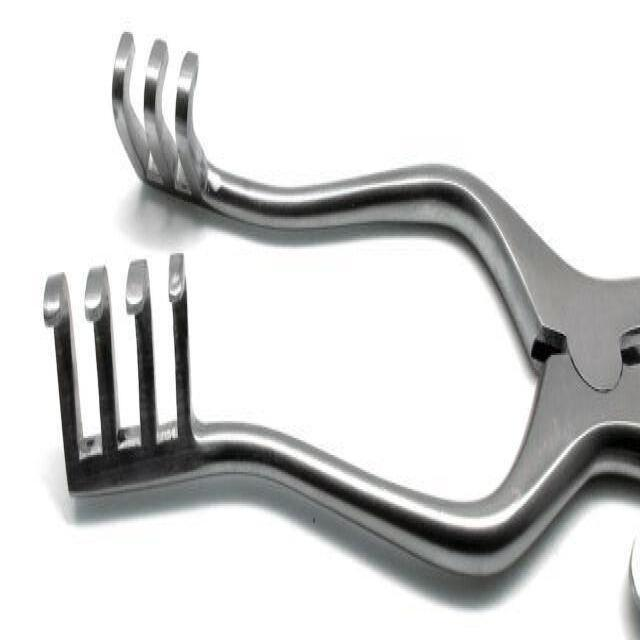Weitlaner: (39, 32, 640, 612)
